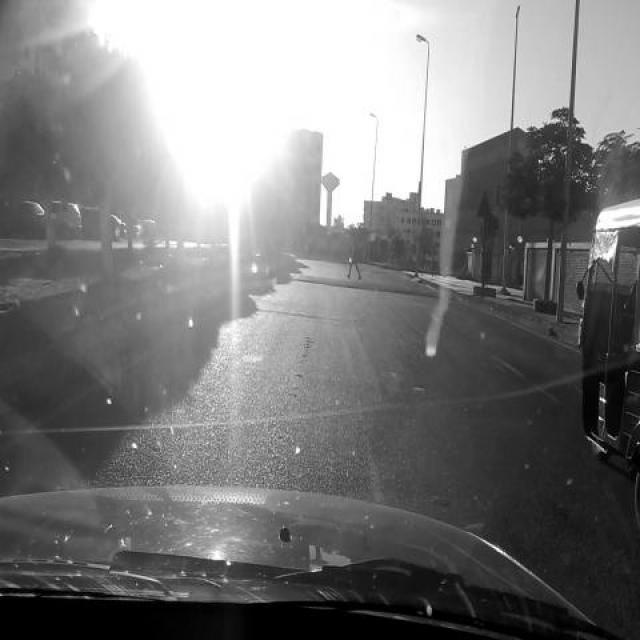Unmarked Bump: (288, 272, 454, 299)
